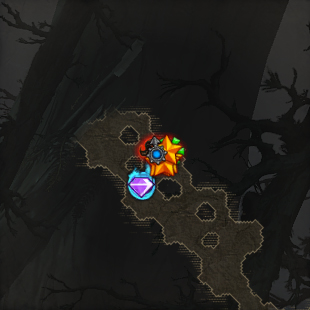Urushi: (126, 161, 157, 201)
